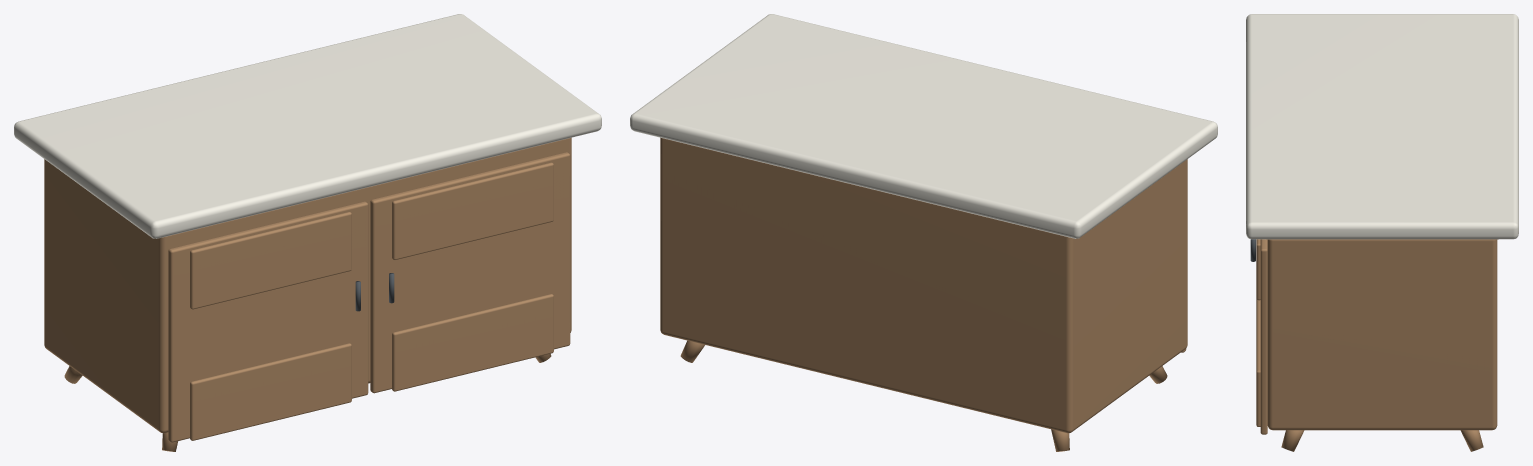
File: atelier-kitchen-island.glb
3 renders of one model, left to right at view 1: azimuth 30°, elevation 25°; view 2: azimuth 150°, elevation 25°; view 3: azimuth 270°, elevation 25°, orthographic. The views are drawn at different scales.
Parts seen in each view (by area): view 1: legs.062, ceramic.015; view 2: legs.062, ceramic.015; view 3: ceramic.015, legs.062.
Boxes of the visible parts, x1,y1,x2,y2 form: legs.062: (44,137,571,451); ceramic.015: (14,14,601,238); legs.062: (660,137,1187,451); ceramic.015: (630,14,1217,238); ceramic.015: (1246,14,1518,239); legs.062: (1256,239,1498,451).
Size of the model in its own units: 1.75 by 0.9444 by 0.95.
